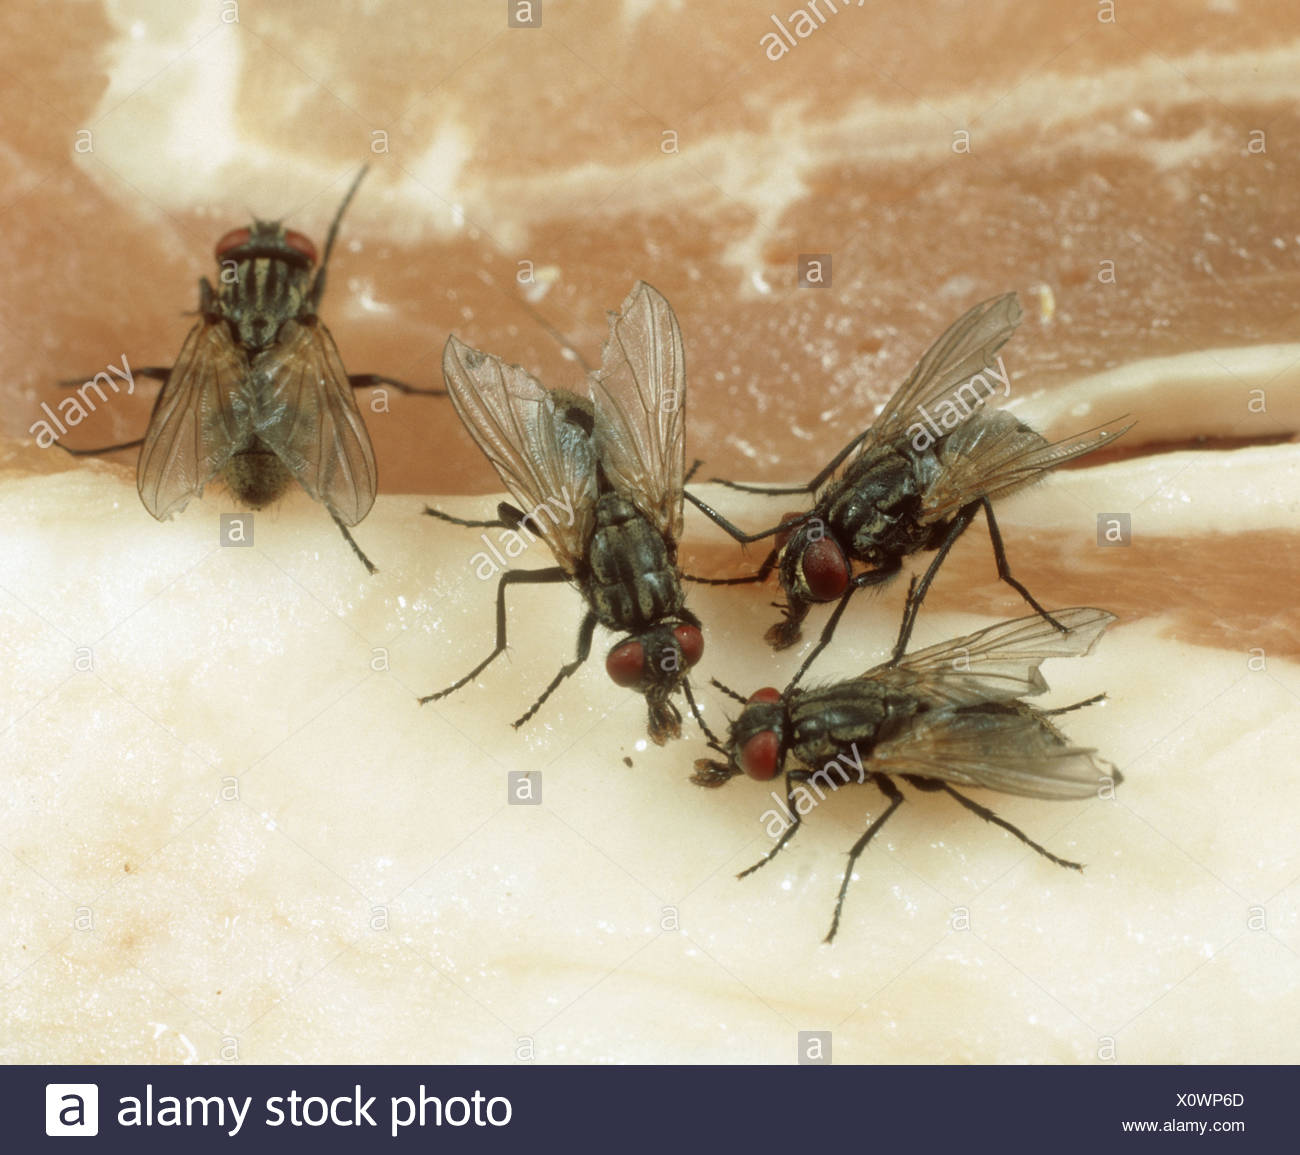fly: (697, 298, 1128, 648), (680, 617, 1149, 935), (410, 305, 753, 741), (78, 195, 431, 582)
